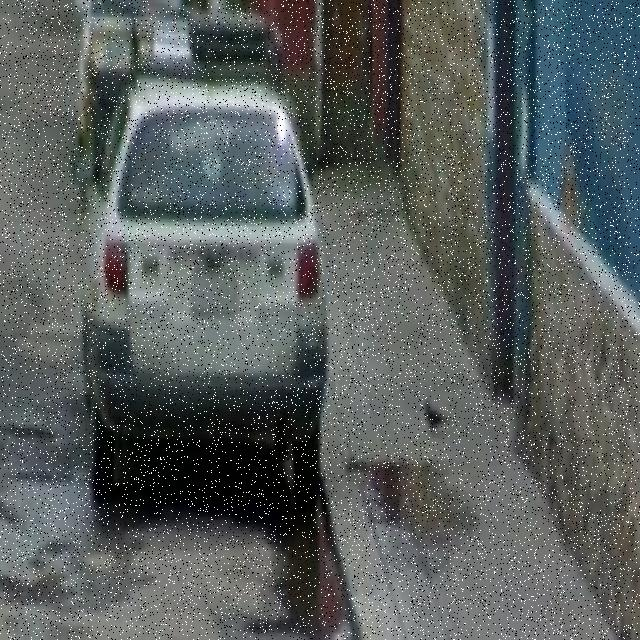cars: (79, 72, 327, 484)
